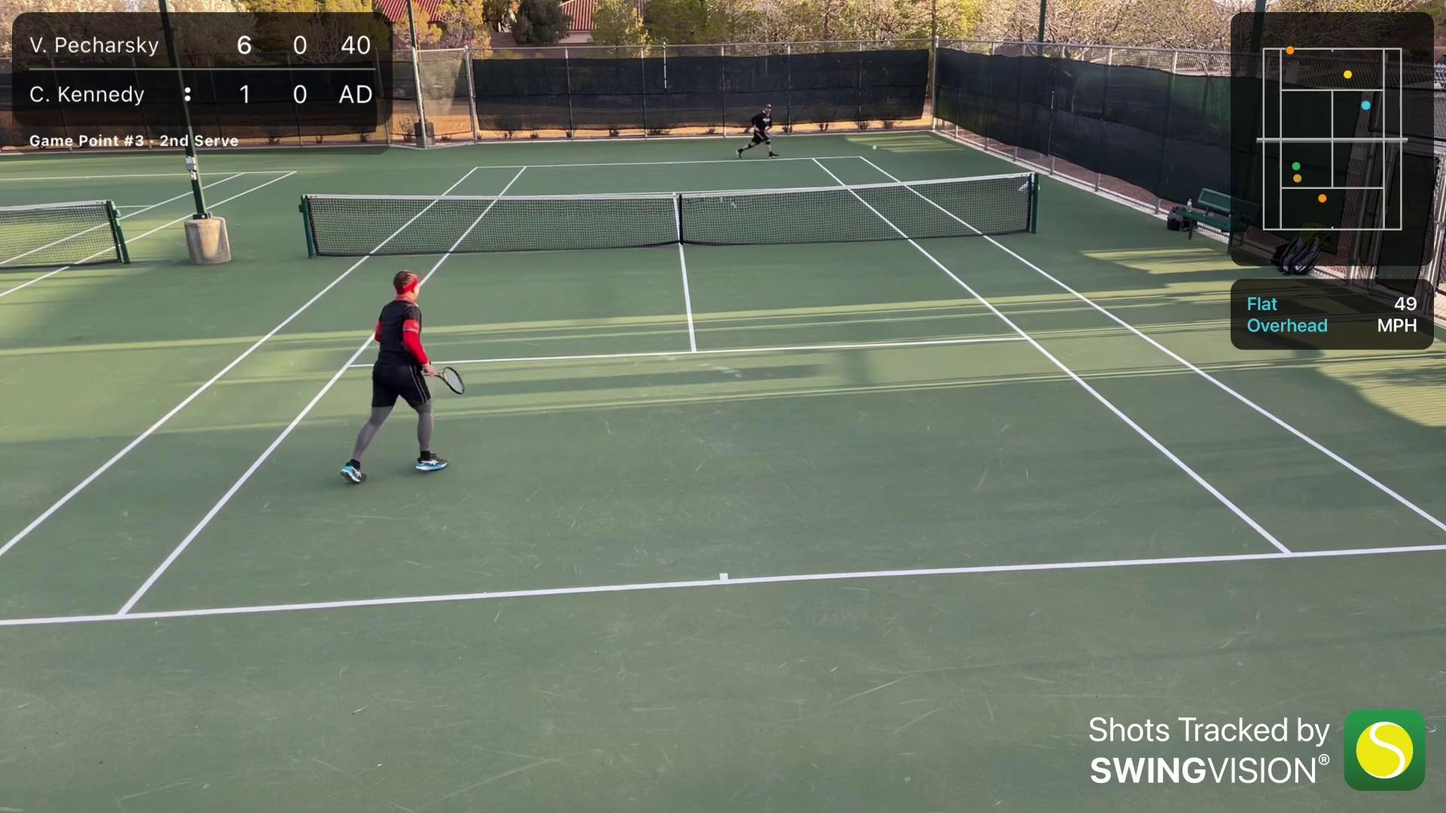ball: (871, 143, 880, 149)
